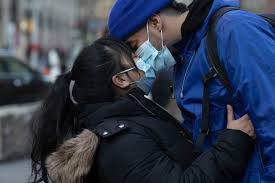with-mask: (67, 35, 159, 107), (100, 1, 188, 75)
